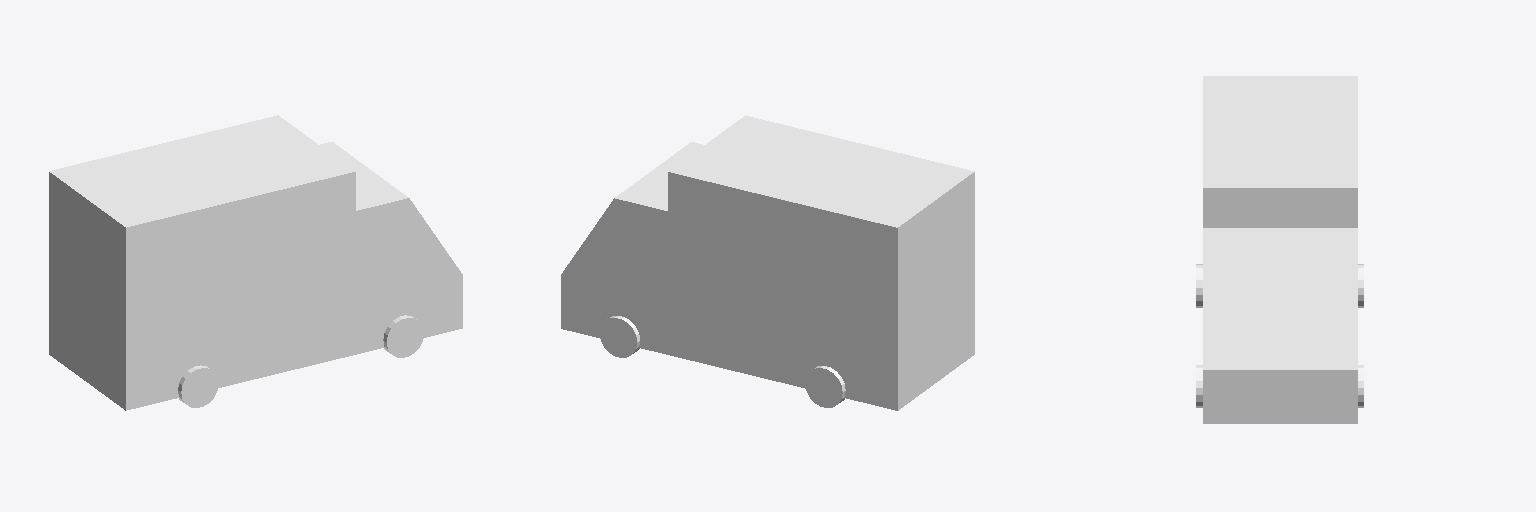
File: car.obj
3 views of the same model, side by side, from view 1: azimuth 30°, elevation 25°; view 2: azimuth 150°, elevation 25°; view 3: azimuth 270°, elevation 25° (orthographic).
Visible parts, largest first — view 1: Car_07; view 2: Car_07; view 3: Car_07.
Part boxes in pixels (x1,y1,x2,y2): Car_07: (49, 115, 462, 410); Car_07: (561, 115, 974, 410); Car_07: (1196, 76, 1363, 423).
Size of the model in its own units: 12.07 by 6.68 by 5.18.